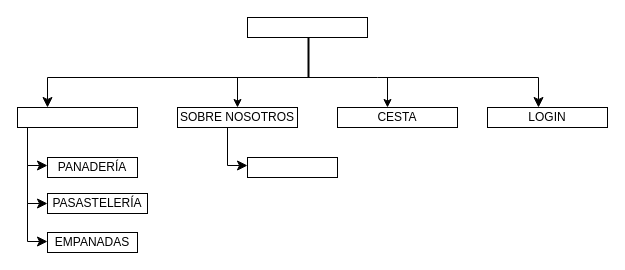
This 625x270 diagram has some shape labels left out. Each missing label, with the box of its shape:
CONTACTO: (246, 156, 338, 178)
HOME: (246, 16, 368, 38)
PRODUCTOS: (16, 106, 138, 128)
